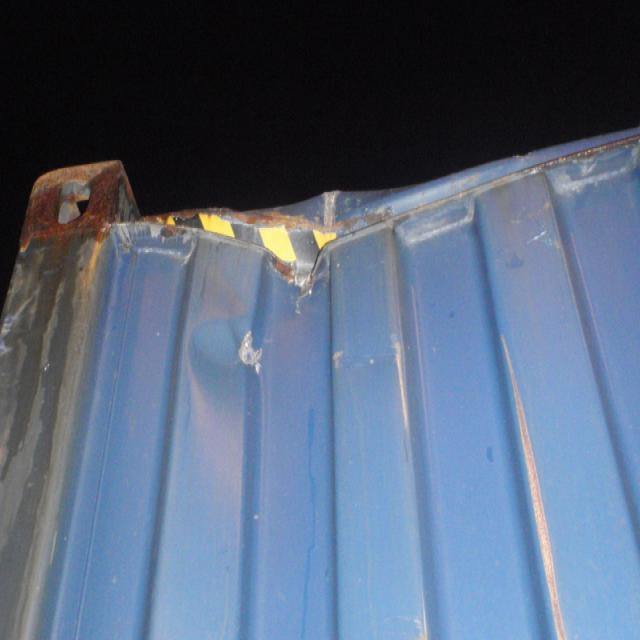dent: (188, 340, 248, 511), (331, 342, 403, 380)
